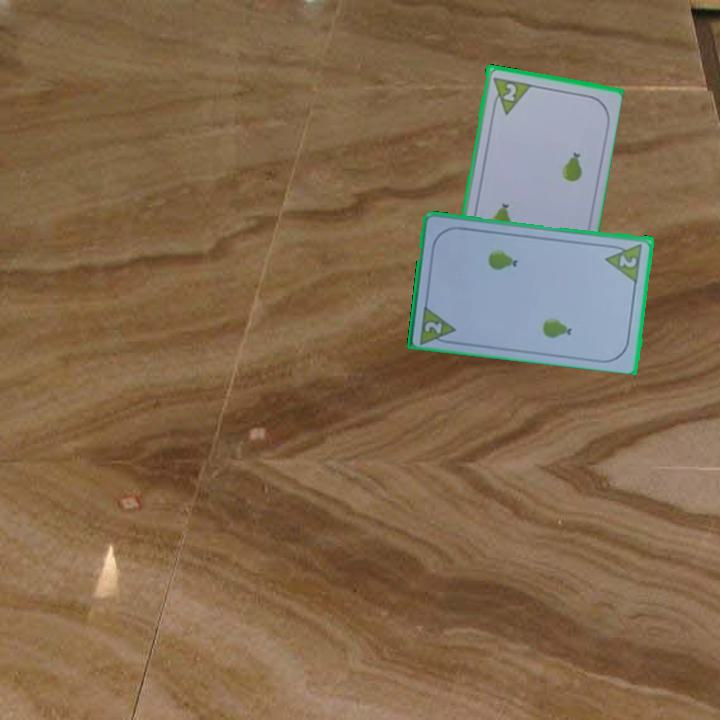2p: (416, 301, 459, 347), (500, 79, 519, 104), (616, 251, 640, 270)
